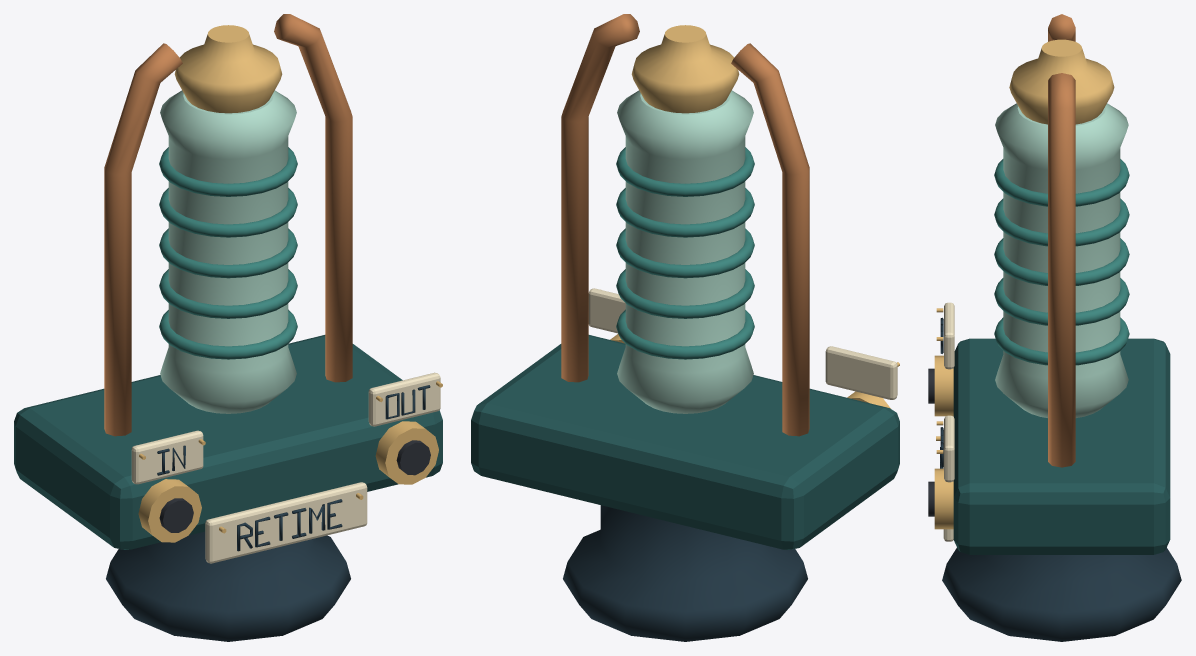
3 views of the same model, side by side, from view 1: azimuth 30°, elevation 25°; view 2: azimuth 150°, elevation 25°; view 3: azimuth 270°, elevation 25° (orthographic). The views are drawn at different scales.
Parts seen in each view (by area): view 1: PR037 workshop surfaces; view 2: PR037 workshop surfaces; view 3: PR037 workshop surfaces.
Part boxes in pixels (x1,y1,x2,y2): PR037 workshop surfaces: (14,14,442,641); PR037 workshop surfaces: (471,14,899,641); PR037 workshop surfaces: (928,14,1181,641).
Bounding box in the file's own units: 0.81 × 1.33 × 0.55.
